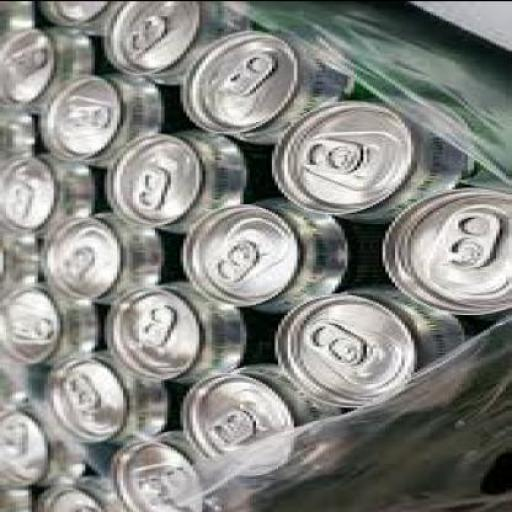metal: (265, 95, 497, 223), (272, 286, 484, 406), (178, 28, 392, 142), (174, 195, 379, 308), (176, 360, 354, 474), (102, 128, 281, 234), (373, 185, 508, 318), (102, 278, 272, 380), (38, 209, 190, 302), (38, 70, 184, 163), (40, 347, 184, 435), (97, 1, 244, 81), (0, 147, 108, 235), (0, 25, 101, 112), (107, 430, 215, 510), (0, 280, 95, 366), (0, 395, 82, 478), (31, 1, 118, 30), (35, 476, 108, 510)
